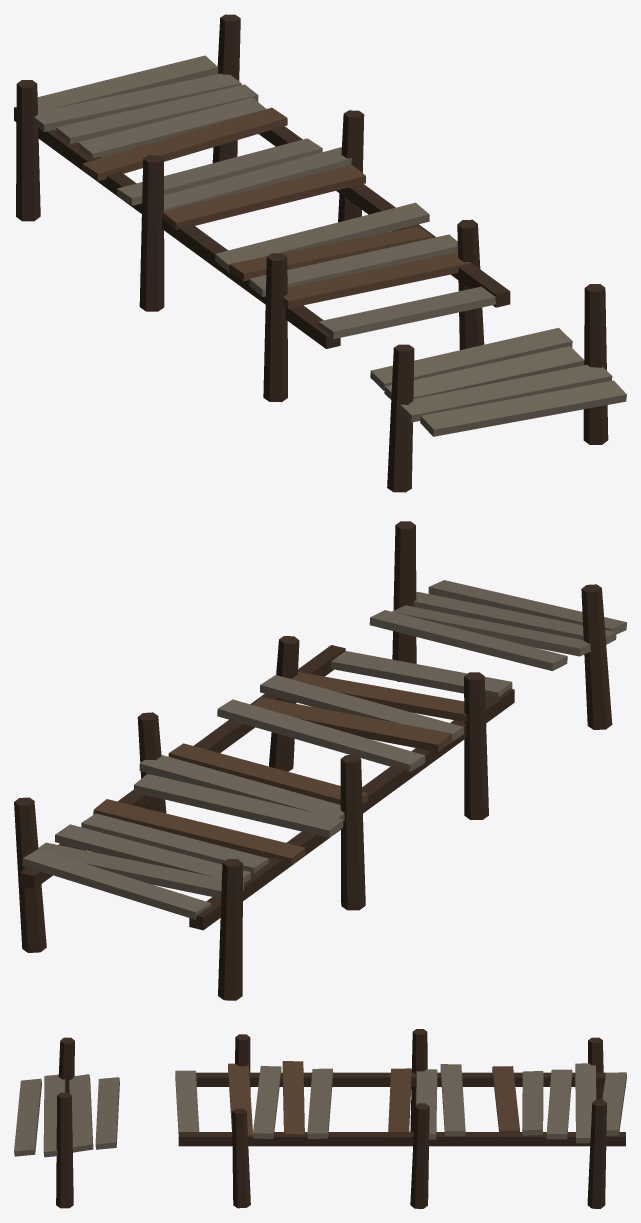
File: forest_jetty_old.glb
3 views of the same model, one above another, from view 1: azimuth 30°, elevation 25°; view 2: azimuth 150°, elevation 25°; view 3: azimuth 270°, elevation 25° (orthographic). The views are drawn at different scales.
Visible parts, largest first — view 1: forest_jetty_old; view 2: forest_jetty_old; view 3: forest_jetty_old.
Boxes of the visible parts, bbox=[...] form: forest_jetty_old: bbox=[14, 14, 626, 492]; forest_jetty_old: bbox=[14, 521, 626, 1000]; forest_jetty_old: bbox=[14, 1029, 626, 1208].
Bounding box in the file's own units: 2.48 × 1.65 × 8.31.
